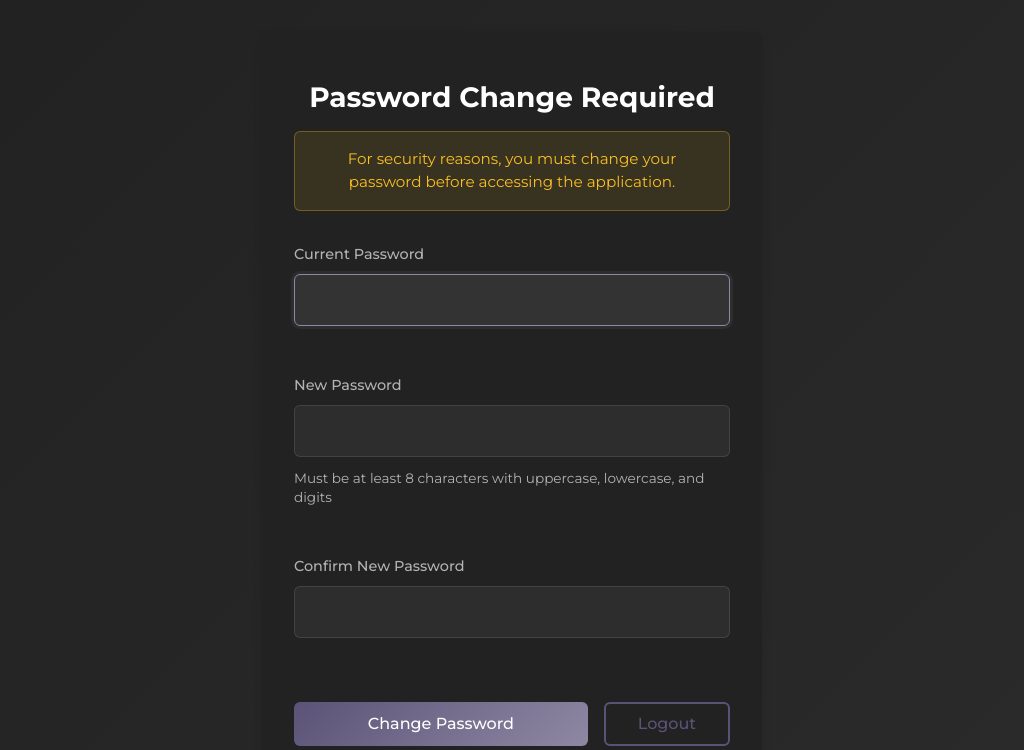
ForcePasswordChangePage › Validation › shows error when password lacks lowercase letter
This screenshot has width=1024, height=750.
Type "OldPass1" into the password field labelled "Current Password" at (512, 300), box x1=294 y1=274 x2=730 y2=326
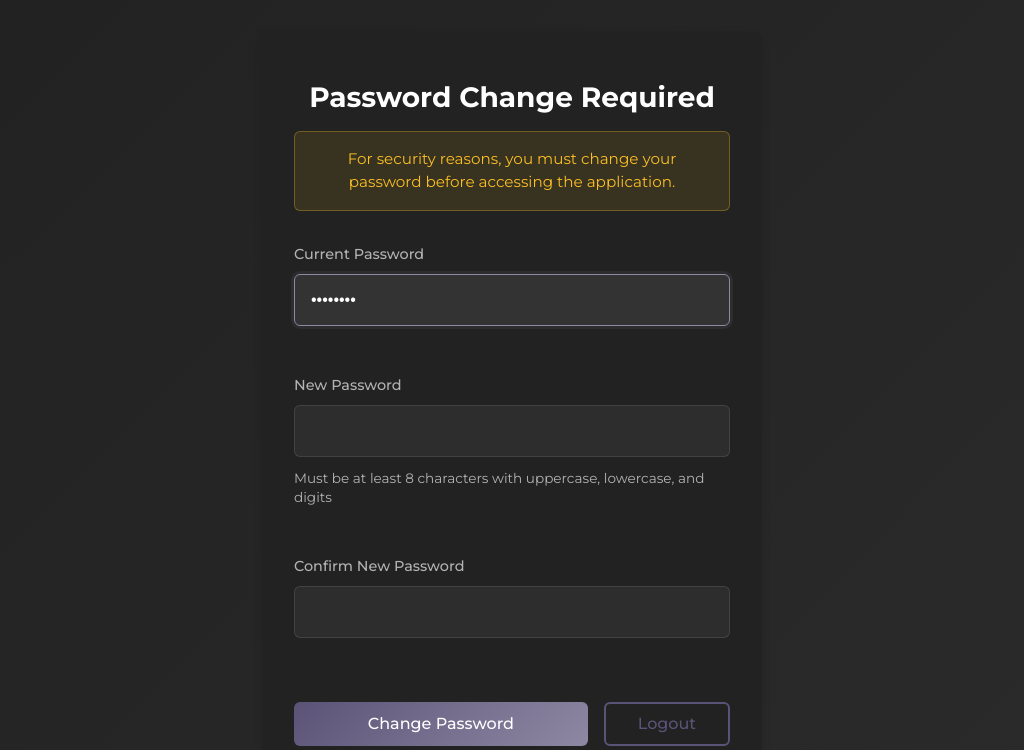
Type "NEWPASS123" into the password field labelled "New Password" at (512, 431), box x1=294 y1=405 x2=730 y2=457
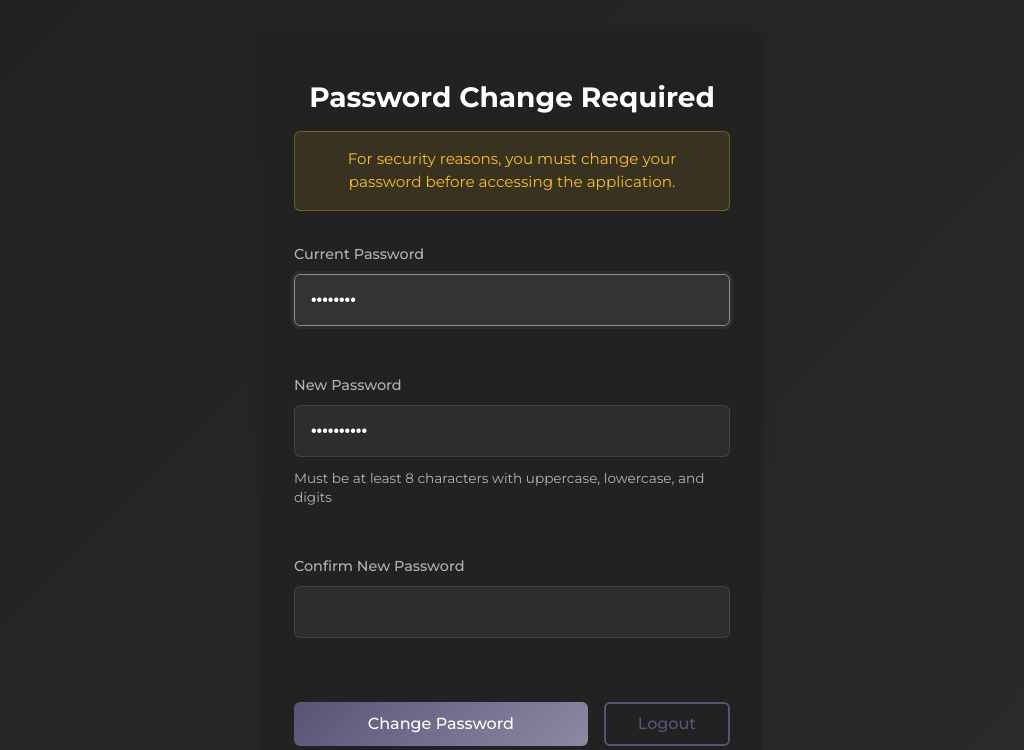
Type "NEWPASS123" into the password field labelled "Confirm New Password" at (512, 612), box x1=294 y1=586 x2=730 y2=638
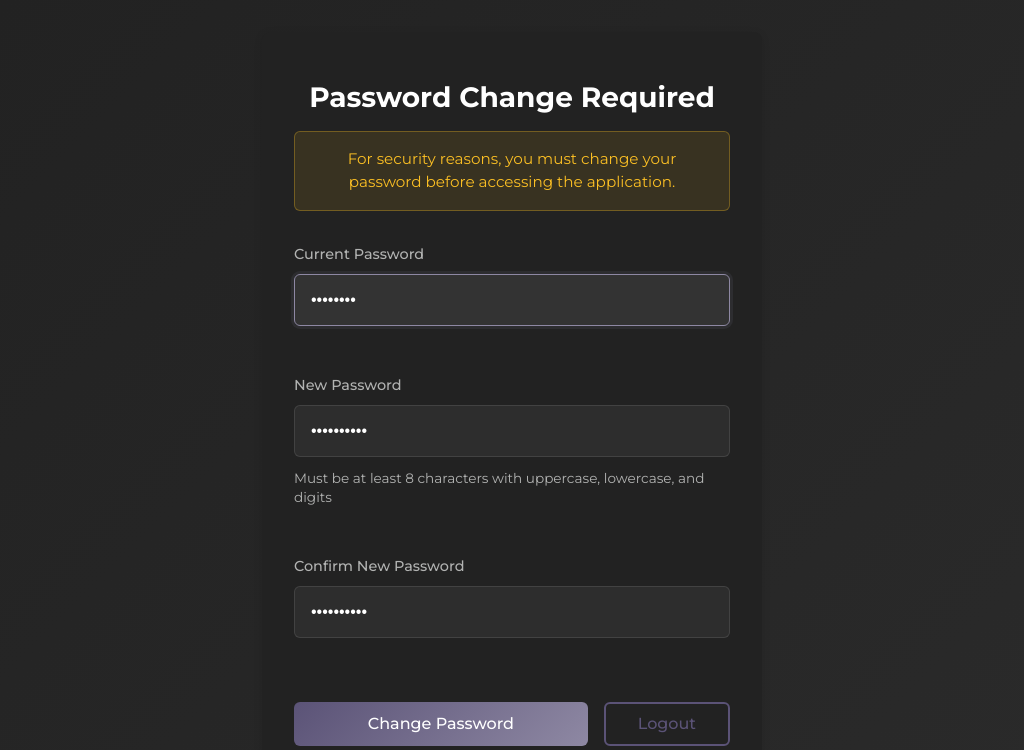
Submit the form named "change password", box x1=294 y1=243 x2=730 y2=746
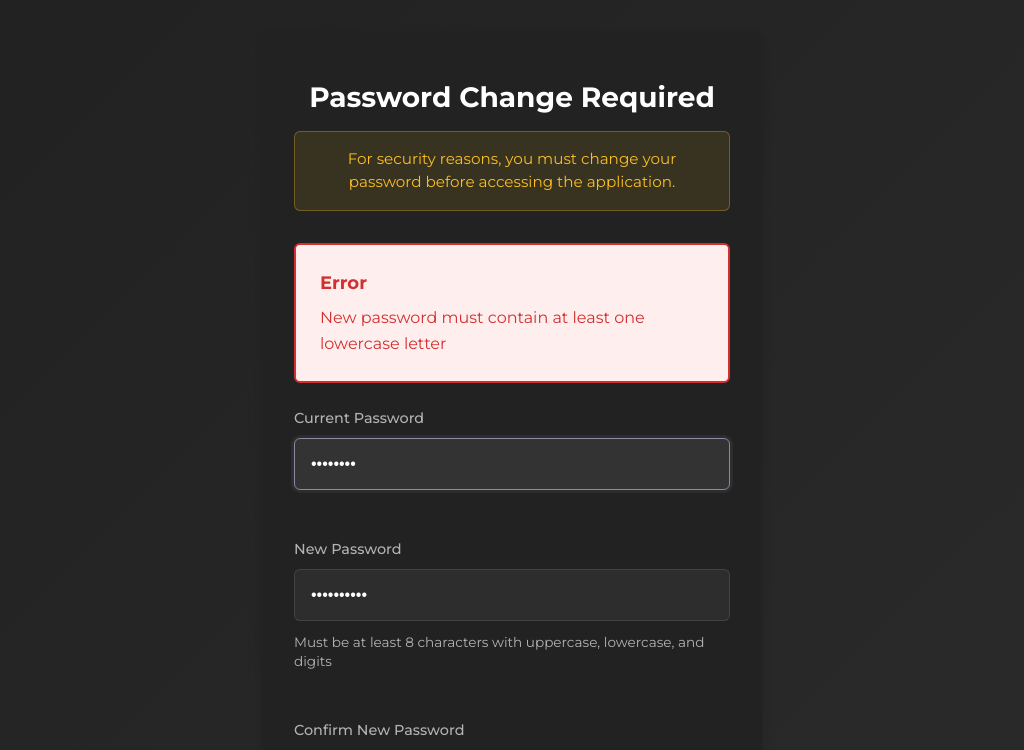
Expected: the text "New password must contain at least one lowercase letter" is shown, x1=320 y1=308 x2=645 y2=353
